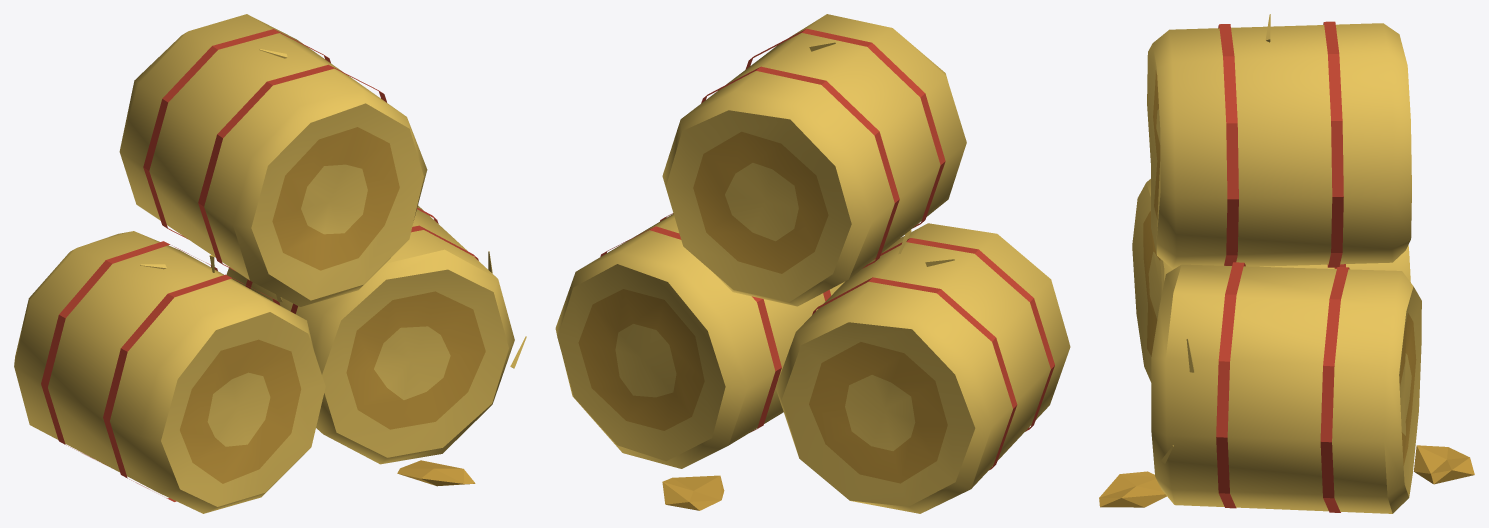
The model's file is hay_bales.glb.
3 views of the same model, side by side, from view 1: azimuth 30°, elevation 25°; view 2: azimuth 150°, elevation 25°; view 3: azimuth 270°, elevation 25° (orthographic). The views are drawn at different scales.
Parts seen in each view (by area): view 1: hay_bales; view 2: hay_bales; view 3: hay_bales.
Boxes of the visible parts, box(x1,y1,x2,y2) form: hay_bales: box(14, 14, 526, 513); hay_bales: box(555, 14, 1070, 513); hay_bales: box(1099, 14, 1474, 513).
Size of the model in its own units: 1.95 by 1.81 by 1.43.
